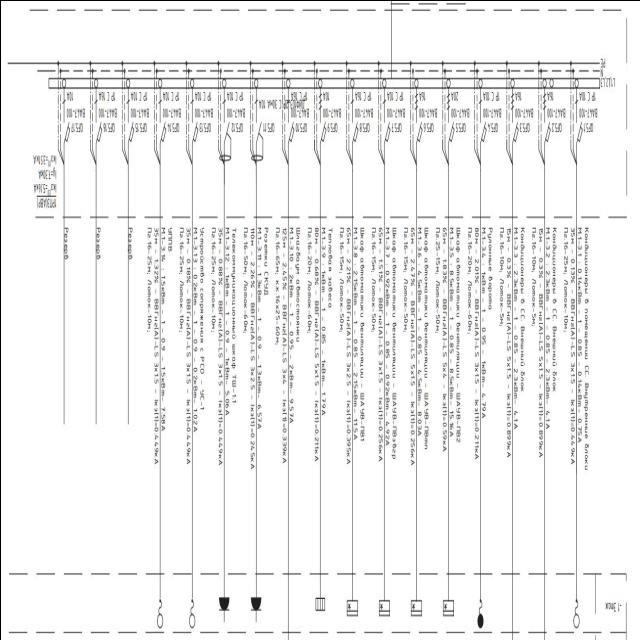-: (546, 86, 566, 120), (257, 96, 303, 110), (353, 88, 373, 120), (385, 88, 405, 120), (578, 88, 598, 120), (65, 88, 85, 120), (322, 88, 342, 120), (162, 87, 182, 119), (514, 88, 534, 120), (449, 88, 469, 120), (130, 88, 150, 120), (194, 88, 214, 120), (481, 87, 501, 119), (289, 88, 309, 120), (418, 87, 438, 119), (97, 88, 117, 120), (36, 194, 56, 208)
QF: (61, 116, 70, 144), (542, 114, 550, 144), (446, 112, 454, 142), (414, 116, 422, 146), (317, 114, 325, 144), (350, 115, 358, 144), (157, 115, 165, 143), (125, 114, 133, 142), (574, 115, 582, 143), (94, 116, 102, 144), (478, 114, 486, 142), (285, 117, 293, 145), (189, 115, 197, 143), (511, 114, 518, 144), (382, 114, 389, 142)
QFD: (216, 119, 232, 163), (249, 117, 264, 161)
